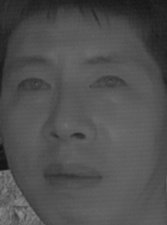eye: (87, 71, 130, 96), (13, 75, 52, 98)
mouth: (37, 153, 104, 195)
